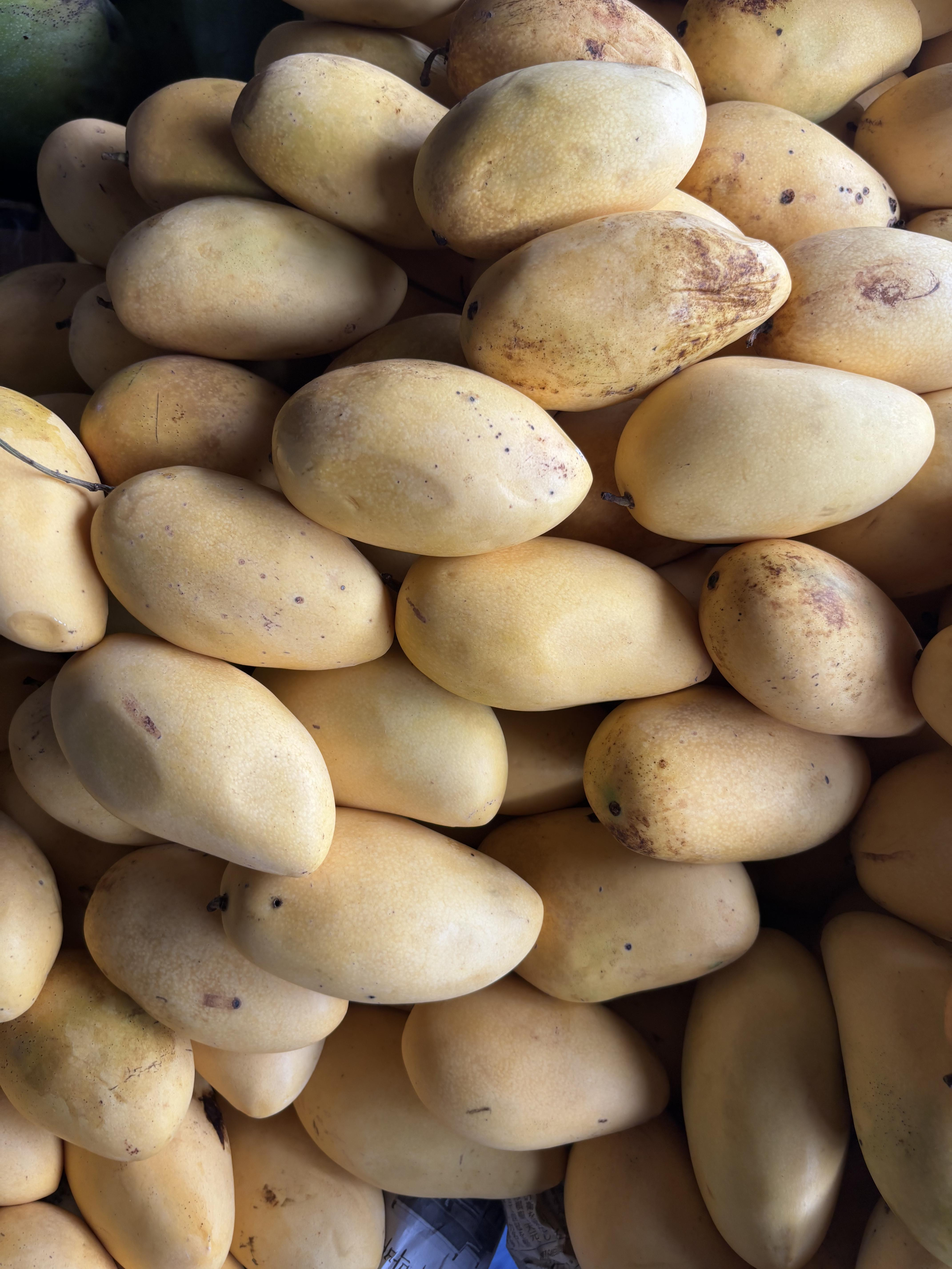mango: (51, 634, 335, 876), (459, 211, 789, 411), (272, 358, 592, 557), (602, 356, 934, 544), (91, 465, 393, 670), (107, 196, 407, 360)
occluded: (219, 807, 543, 1005), (682, 929, 850, 1269), (414, 61, 705, 257), (84, 844, 348, 1054), (396, 537, 711, 712), (482, 808, 759, 1002), (294, 1004, 567, 1200), (584, 685, 870, 863), (256, 641, 508, 828), (402, 975, 669, 1151), (822, 912, 952, 1265), (699, 538, 924, 737), (231, 52, 447, 250), (0, 950, 194, 1163), (680, 101, 900, 251), (799, 388, 952, 600), (757, 228, 952, 393), (678, 0, 922, 122), (65, 1093, 234, 1269), (565, 1113, 747, 1269), (80, 354, 288, 490), (0, 753, 138, 948), (223, 1102, 384, 1269), (8, 680, 164, 846), (446, 0, 701, 98), (550, 398, 697, 566), (0, 448, 108, 653), (126, 78, 277, 211), (851, 748, 952, 940), (37, 118, 152, 267), (0, 261, 105, 397), (857, 63, 952, 208), (0, 814, 63, 1023), (255, 18, 432, 89), (495, 704, 605, 815), (193, 1039, 325, 1118), (69, 283, 165, 390), (0, 388, 99, 482), (328, 313, 467, 370), (0, 1201, 115, 1269), (0, 1089, 63, 1205), (856, 1198, 948, 1269), (656, 545, 732, 613), (913, 626, 952, 745), (287, 0, 452, 28), (649, 188, 741, 232), (400, 5, 460, 47), (399, 9, 456, 47), (819, 101, 865, 148), (855, 72, 907, 112), (909, 31, 952, 74), (635, 0, 684, 36), (913, 0, 952, 43), (905, 208, 952, 242), (423, 60, 456, 107), (708, 335, 754, 361)
